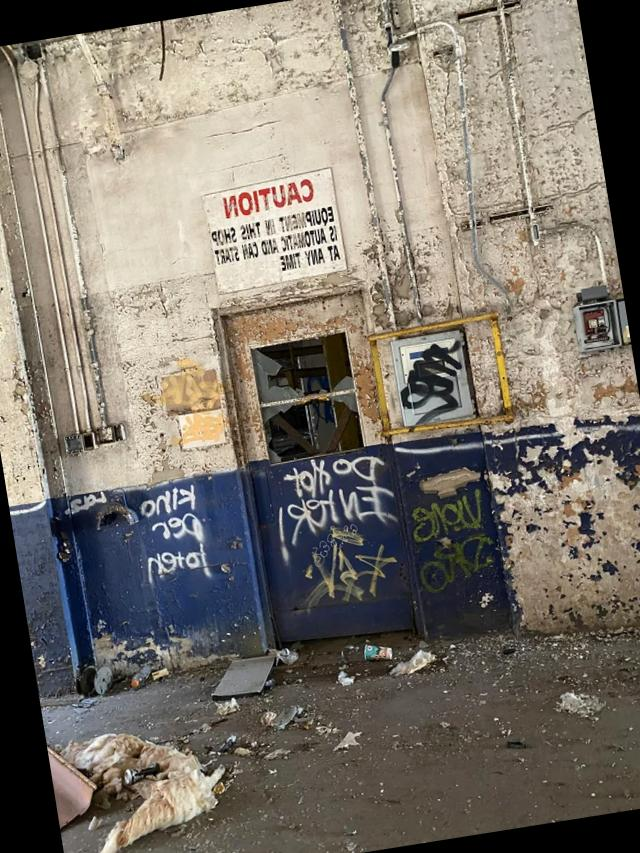graffiti: (257, 451, 406, 597), (412, 480, 498, 591), (140, 482, 210, 586), (397, 337, 472, 427)
trash: (61, 732, 224, 853), (48, 746, 94, 828), (193, 698, 260, 752), (213, 650, 276, 700), (98, 663, 171, 694), (389, 649, 436, 675), (556, 692, 601, 719), (270, 705, 303, 730), (364, 644, 395, 670), (332, 730, 362, 751), (336, 668, 355, 686), (264, 749, 294, 758), (269, 766, 277, 773)
